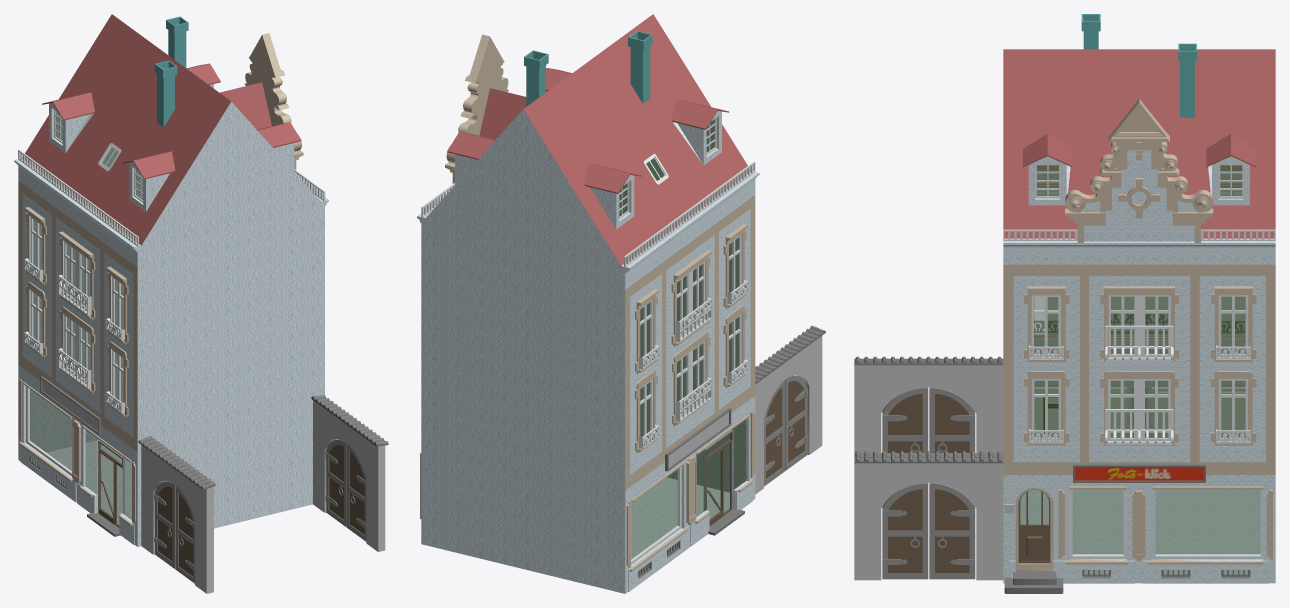
Rendered from TownHouse2.FBX.
The picture shows the model from 3 angles, left to right: view 1: azimuth 30°, elevation 25°; view 2: azimuth 150°, elevation 25°; view 3: azimuth 270°, elevation 25°; orthographic projection. The views are drawn at different scales.
Visible parts, largest first — view 1: wall, cover01, cream, wall02, white, Glases01, brown, metal, cover02, chimney01, Doors01, chimney02 (+2 smaller); view 2: wall, cover01, cream, white, Glases01, wall02, metal, brown, chimney01, cover02, chimney02, Doors01 (+2 smaller); view 3: wall, cover01, cream, Glases01, wall02, white, brown, metal, cover02, cartel01, chimney02, Doors01 (+3 smaller).
Boxes of the visible parts, left/top/right/bottom form: wall: left=14, top=84, right=328, bottom=546; cover01: left=22, top=14, right=301, bottom=245; cream: left=18, top=33, right=303, bottom=525; wall02: left=141, top=400, right=385, bottom=593; white: left=18, top=108, right=325, bottom=475; Glases01: left=30, top=111, right=142, bottom=524; brown: left=158, top=444, right=364, bottom=576; metal: left=154, top=439, right=366, bottom=583; cover02: left=138, top=395, right=388, bottom=490; chimney01: left=155, top=16, right=188, bottom=126; Doors01: left=98, top=441, right=122, bottom=527; chimney02: left=154, top=16, right=187, bottom=127; wall: left=417, top=91, right=759, bottom=593; cover01: left=447, top=14, right=750, bottom=265; cream: left=420, top=34, right=755, bottom=571; white: left=421, top=116, right=755, bottom=564; Glases01: left=619, top=120, right=745, bottom=569; wall02: left=755, top=336, right=822, bottom=494; metal: left=764, top=375, right=808, bottom=486; brown: left=766, top=381, right=804, bottom=478; chimney01: left=524, top=31, right=651, bottom=106; cover02: left=755, top=325, right=825, bottom=384; chimney02: left=524, top=31, right=652, bottom=103; Doors01: left=706, top=431, right=732, bottom=525; wall: left=1003, top=150, right=1275, bottom=583; cover01: left=1003, top=49, right=1275, bottom=238; cream: left=1003, top=98, right=1275, bottom=570; Glases01: left=1020, top=165, right=1260, bottom=573; wall02: left=854, top=365, right=1003, bottom=580; white: left=1003, top=165, right=1275, bottom=559; brown: left=888, top=394, right=969, bottom=573; metal: left=882, top=387, right=975, bottom=579; cover02: left=854, top=356, right=1003, bottom=463; cartel01: left=1074, top=467, right=1204, bottom=480; chimney02: left=1081, top=14, right=1196, bottom=117; Doors01: left=1018, top=397, right=1058, bottom=563.
Size of the model in its own units: 2356 by 4577 by 3507.
